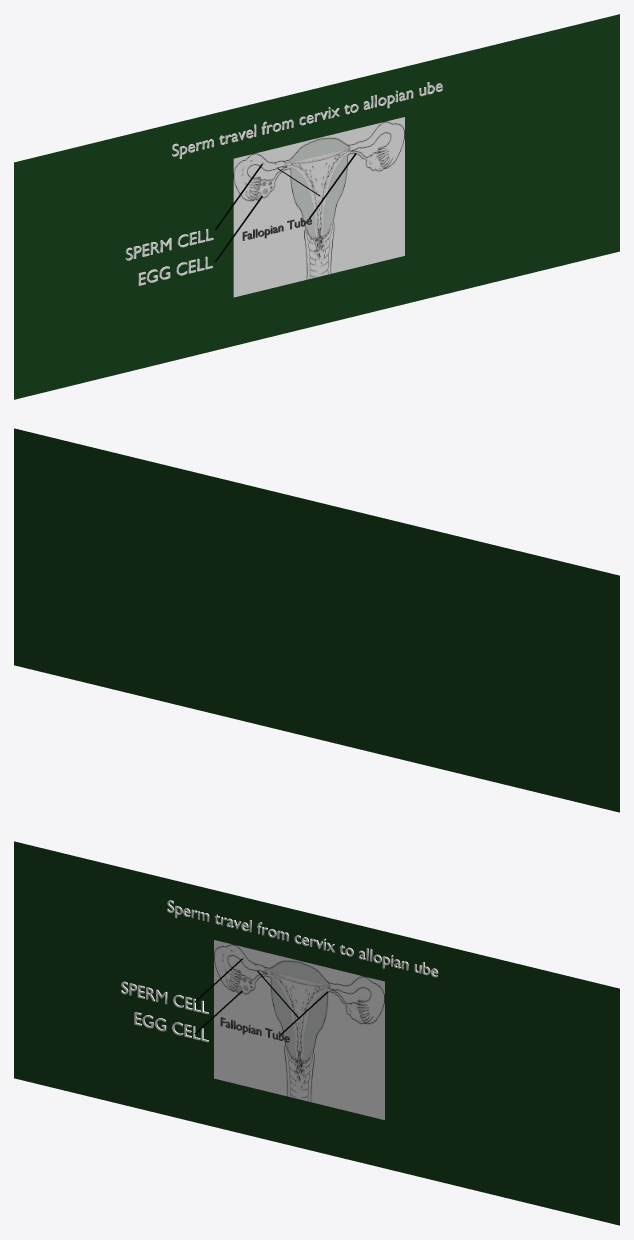
File: start.gltf
The picture shows the model from 3 angles, top to bottom: view 1: azimuth 30°, elevation 25°; view 2: azimuth 150°, elevation 25°; view 3: azimuth 330°, elevation 25°; orthographic projection.
Parts seen in each view (by area): view 1: Plane.013, Plane, Text.001, Text.008, Text.009; view 2: Plane.013; view 3: Plane.013, Plane, Text.001, Text.008, Text.009.
Boxes of the visible parts, bbox=[...] form: Plane.013: bbox=[14, 14, 619, 399]; Plane: bbox=[233, 117, 404, 297]; Text.001: bbox=[172, 82, 442, 159]; Text.008: bbox=[125, 229, 213, 260]; Text.009: bbox=[138, 256, 212, 285]; Plane.013: bbox=[14, 428, 619, 812]; Plane.013: bbox=[14, 841, 619, 1225]; Plane: bbox=[214, 940, 384, 1119]; Text.001: bbox=[167, 900, 438, 977]; Text.008: bbox=[121, 981, 208, 1014]; Text.009: bbox=[134, 1012, 208, 1042].
Bounding box in the file's own units: 15.94 × 5.96 × 0.6695.
Materials: 10 (1 with a texture image).
